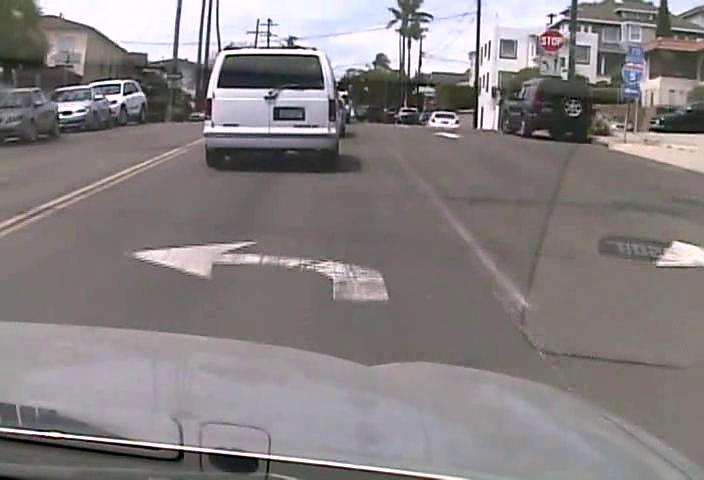stop: (538, 29, 565, 53)
